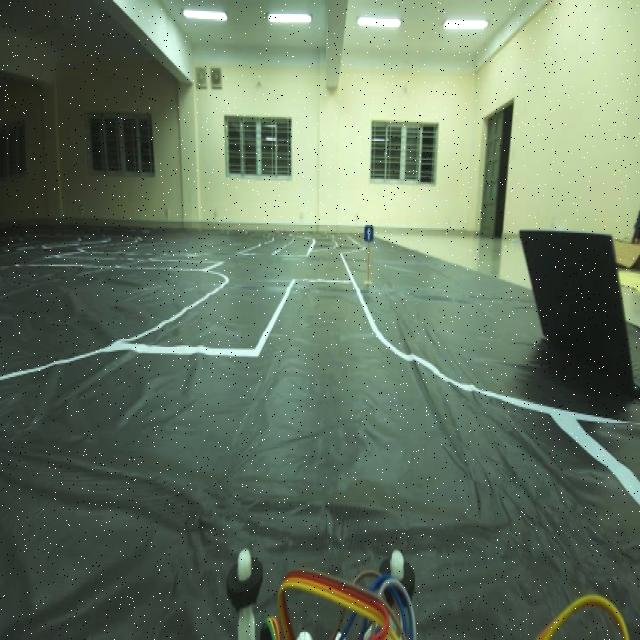onewayroad: (362, 217, 378, 253)
